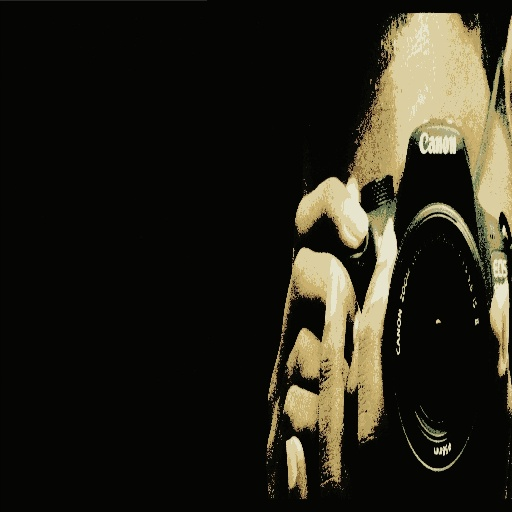hand: (317, 210, 511, 510), (267, 138, 411, 464)
